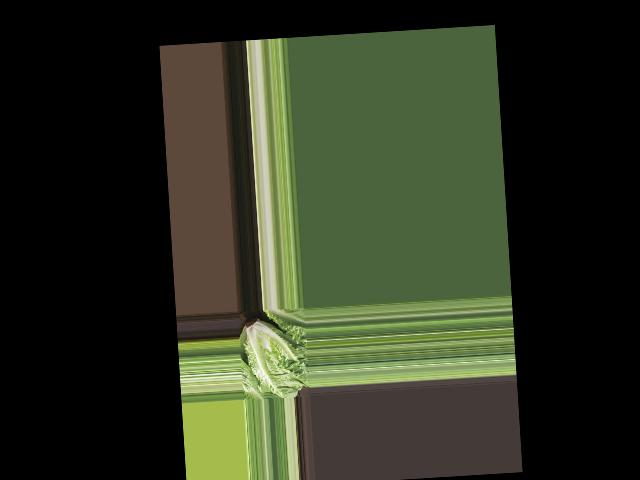lettuce: (237, 312, 305, 399)
